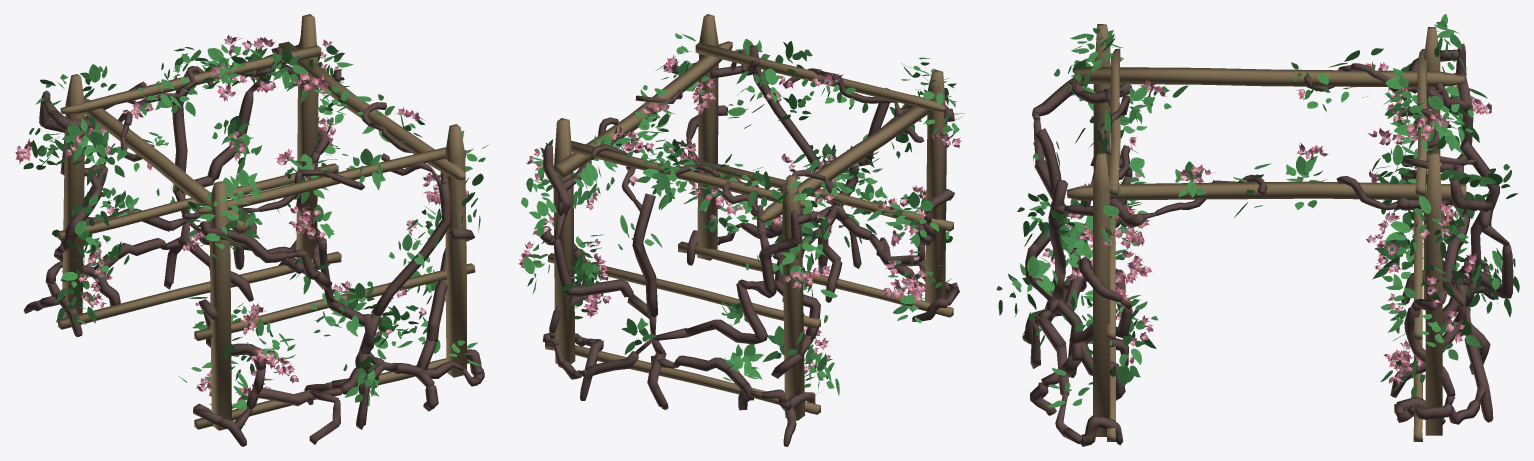
The model's file is bougainvillea.glb.
The picture shows the model from 3 angles, left to right: view 1: azimuth 30°, elevation 25°; view 2: azimuth 150°, elevation 25°; view 3: azimuth 270°, elevation 25°; orthographic projection. The views are drawn at different scales.
Visible parts, largest first — view 1: Wooden Planks, Roots, Leaves 1, Flower; view 2: Wooden Planks, Roots, Leaves 1, Flower; view 3: Roots, Wooden Planks, Leaves 1, Flower.
Boxes of the visible parts, bbox=[...] form: Wooden Planks: bbox=[57, 14, 475, 430]; Roots: bbox=[23, 37, 484, 446]; Leaves 1: bbox=[23, 38, 488, 425]; Flower: bbox=[15, 34, 468, 400]; Wooden Planks: bbox=[545, 14, 953, 420]; Roots: bbox=[540, 45, 959, 446]; Leaves 1: bbox=[521, 33, 964, 395]; Flower: bbox=[518, 55, 961, 373]; Roots: bbox=[1022, 43, 1513, 446]; Wooden Planks: bbox=[1067, 24, 1466, 441]; Leaves 1: bbox=[996, 14, 1519, 407]; Flower: bbox=[1042, 61, 1491, 384].
Bounding box in the file's own units: 2.27 × 1.78 × 2.85.
Materials: 6 (4 with a texture image).
